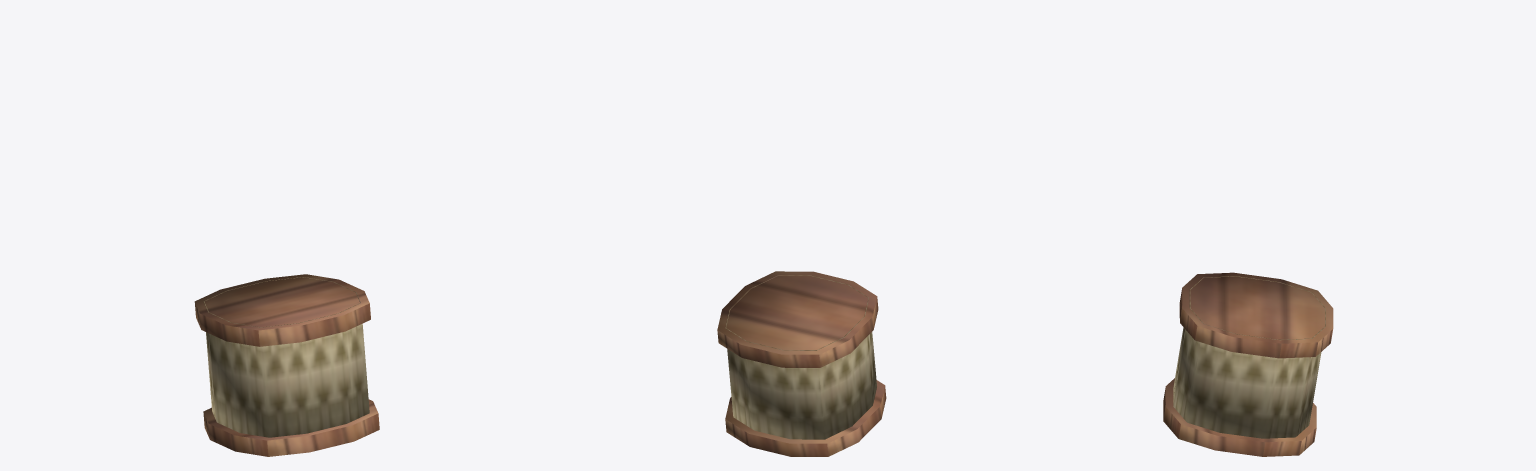
File: helmet_ari_4.dae
The picture shows the model from 3 angles, left to right: view 1: azimuth 30°, elevation 25°; view 2: azimuth 150°, elevation 25°; view 3: azimuth 270°, elevation 25°; orthographic projection. The views are drawn at different scales.
Parts seen in each view (by area): view 1: helmet_ari_4; view 2: helmet_ari_4; view 3: helmet_ari_4.
Boxes of the visible parts, left/top/right/bottom form: helmet_ari_4: left=194, top=274, right=379, bottom=456; helmet_ari_4: left=717, top=271, right=886, bottom=456; helmet_ari_4: left=1163, top=272, right=1333, bottom=456.
Size of the model in its own units: 1.68 by 1.67 by 1.33.
